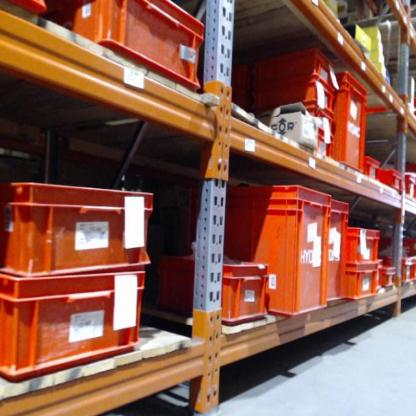small_load_carrier: (2, 180, 153, 275), (3, 273, 144, 374), (225, 186, 327, 320), (72, 1, 204, 93), (160, 248, 264, 328), (253, 50, 340, 90), (335, 67, 364, 174), (250, 84, 335, 119), (328, 198, 348, 307), (346, 229, 381, 265), (345, 264, 380, 299), (383, 256, 415, 285), (384, 236, 416, 261), (313, 127, 332, 158), (364, 155, 382, 183), (385, 169, 404, 194), (381, 266, 396, 288), (405, 172, 415, 203)
